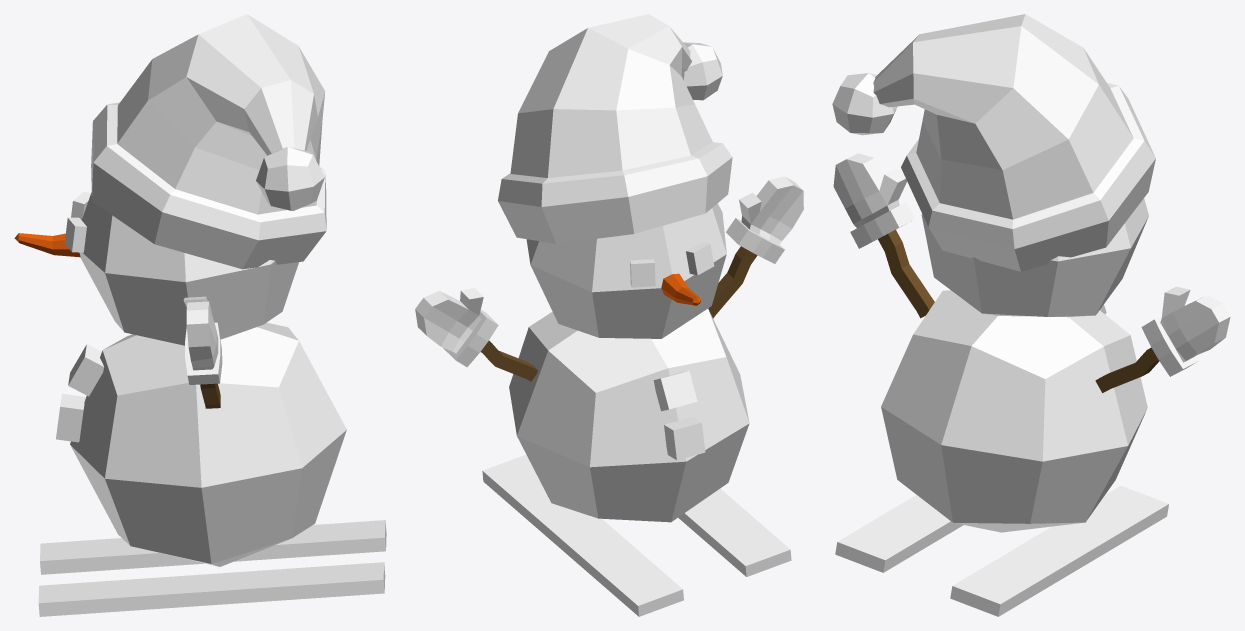
Rendered from snehuliak.glb.
3 renders of one model, left to right at view 1: azimuth 30°, elevation 25°; view 2: azimuth 150°, elevation 25°; view 3: azimuth 270°, elevation 25°, orthographic. The views are drawn at different scales.
Parts seen in each view (by area): view 1: snehuliak; view 2: snehuliak; view 3: snehuliak.
Part boxes in pixels (x1,y1,x2,y2): snehuliak: [14, 14, 386, 616]; snehuliak: [415, 14, 803, 616]; snehuliak: [832, 14, 1230, 616].
Size of the model in its own units: 0.2067 by 0.3248 by 0.212.
